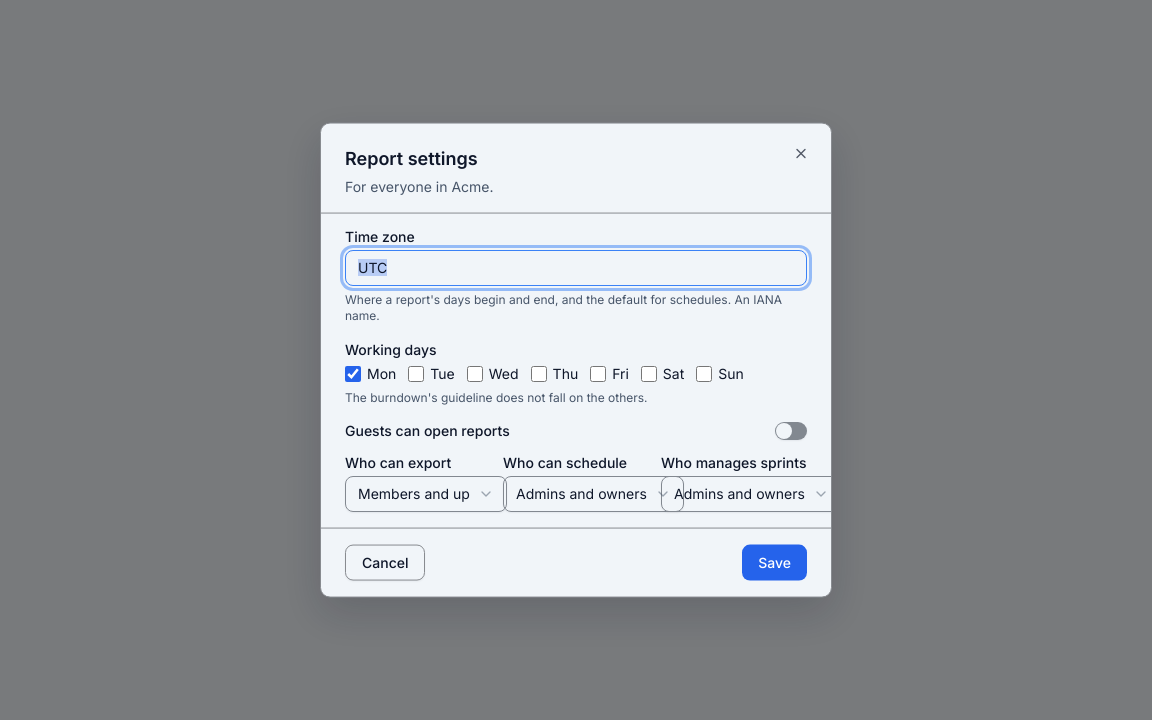
<ReportsSettingsDialog> › needs at least one working day
Click the checkbox labelled "Mon" at (353,373), box [345,365,361,381]
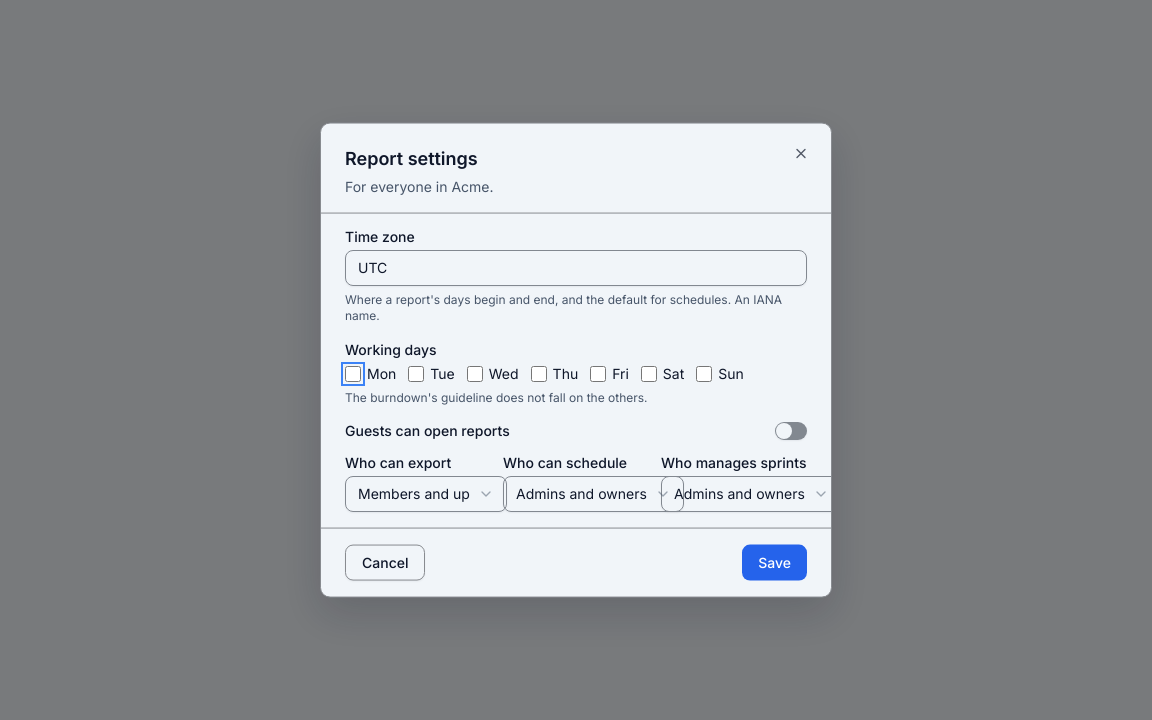
Click the button "Save" at (775,562), box [742,544,807,580]
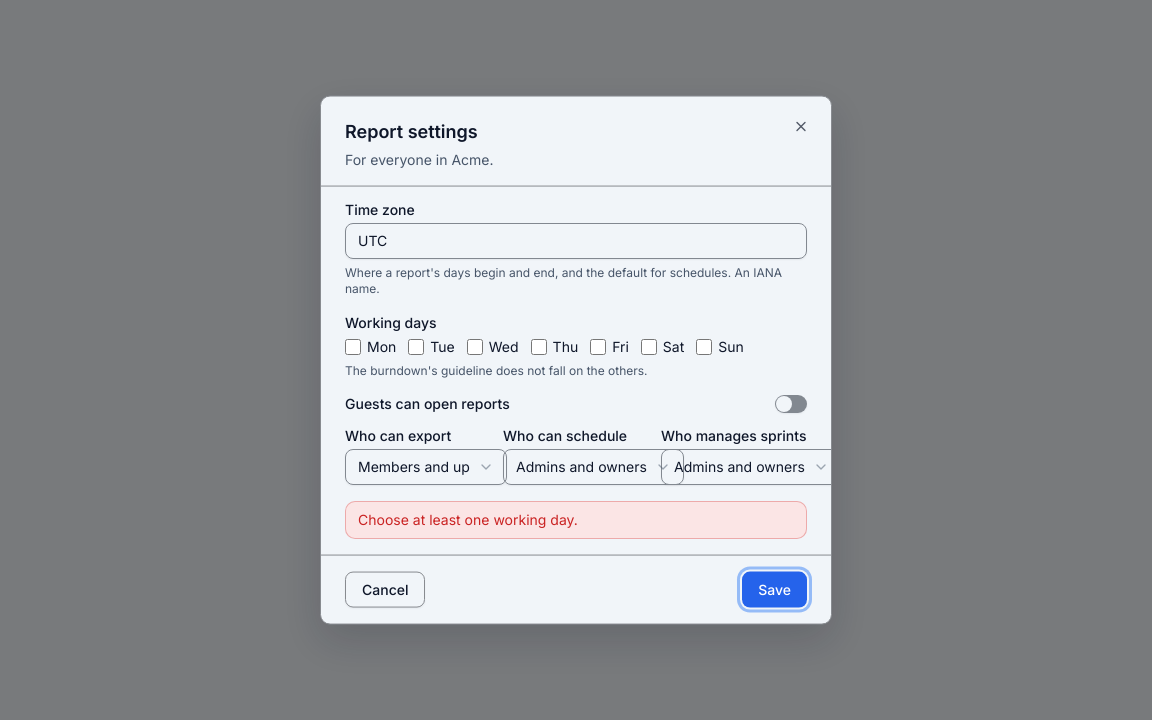
Now the text "Choose at least one working day." is shown, box [345,500,807,538]
